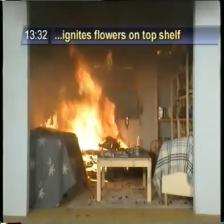fire: (59, 46, 127, 149), (44, 114, 58, 129)
